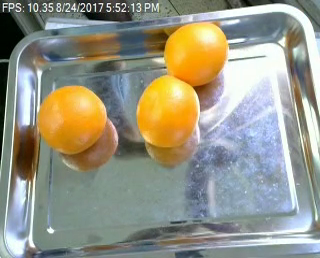Orange: (38, 83, 108, 153), (137, 74, 201, 147), (163, 22, 229, 85)
